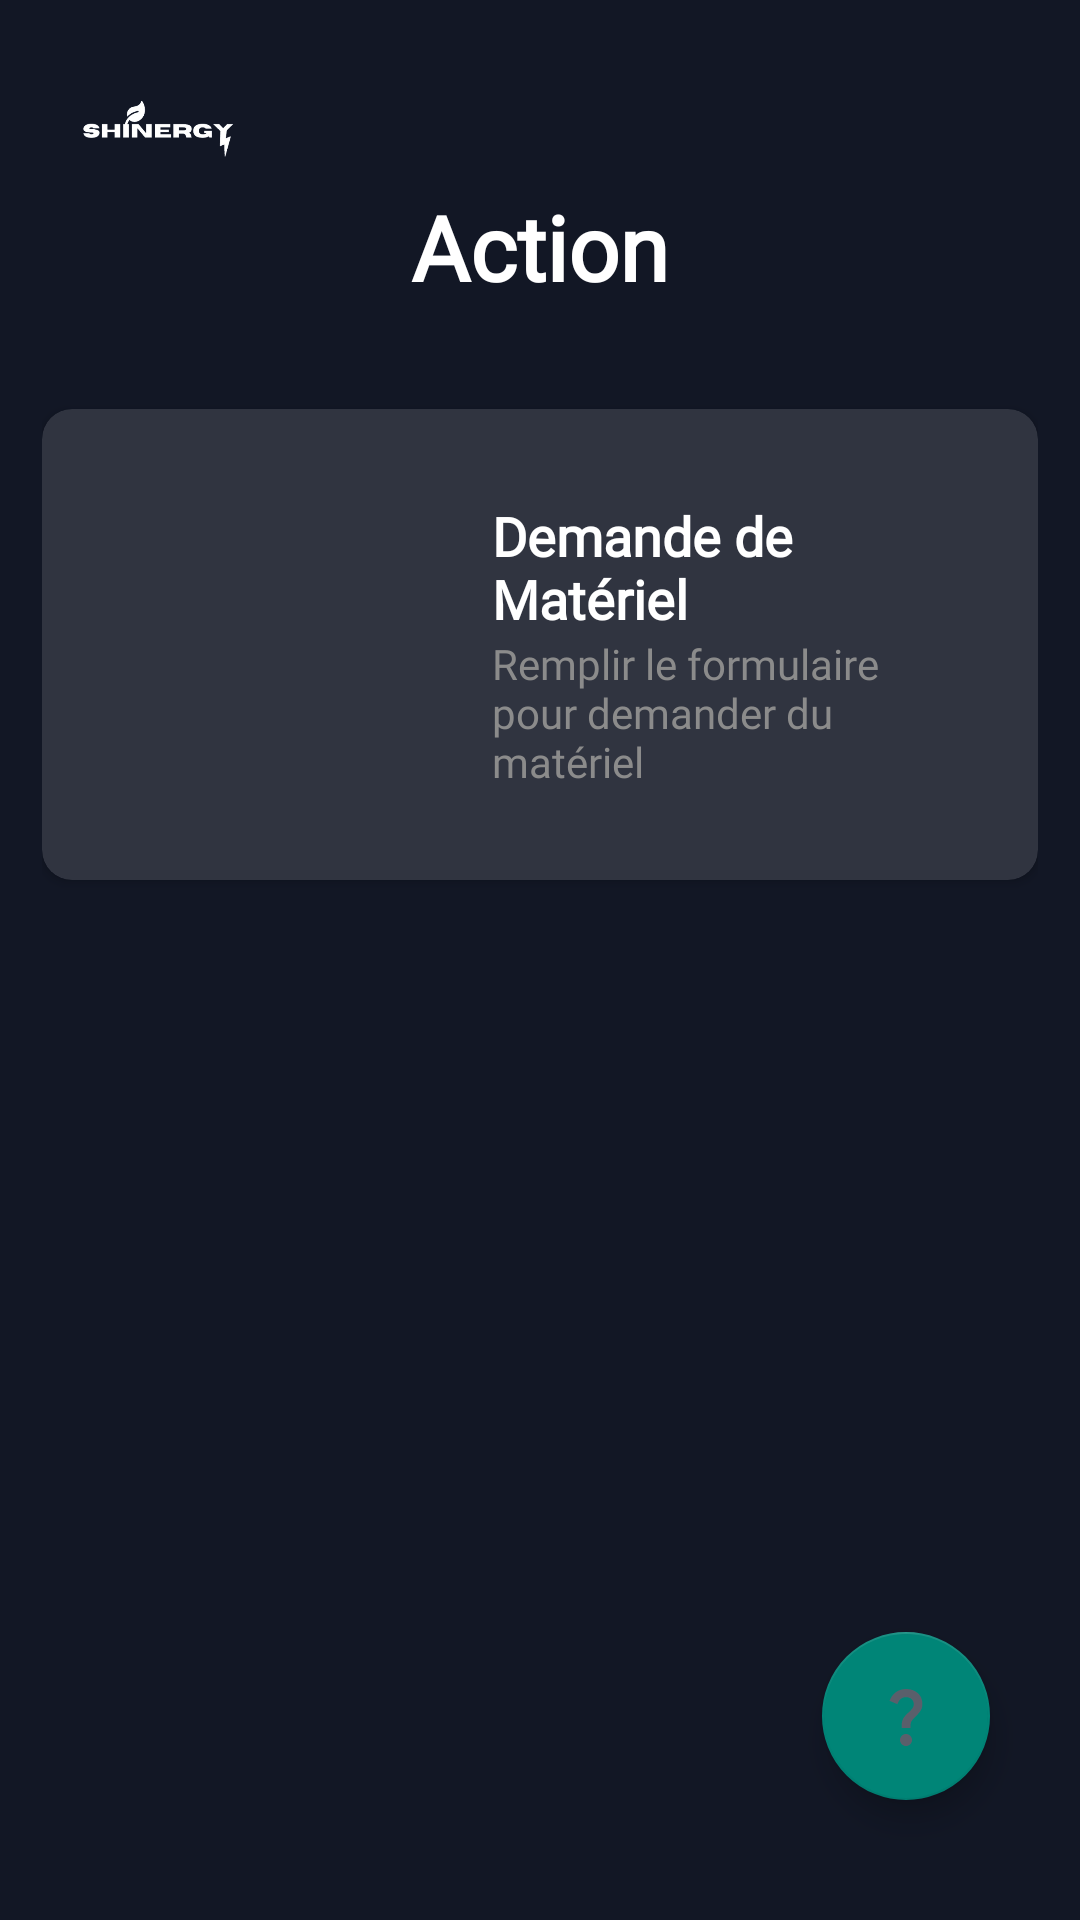

Icons on this 1080x1920 Android screen, each with its box as (x1,y1,x2,y2):
Need help ?: (822,1632,990,1800)
